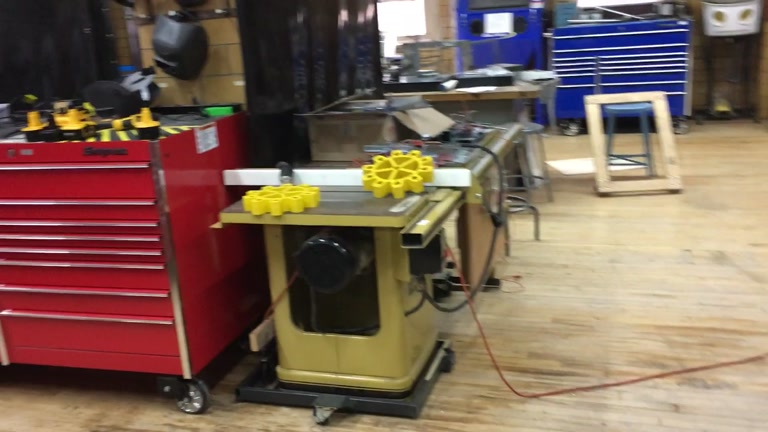gear: (360, 148, 433, 199), (241, 182, 320, 216)
